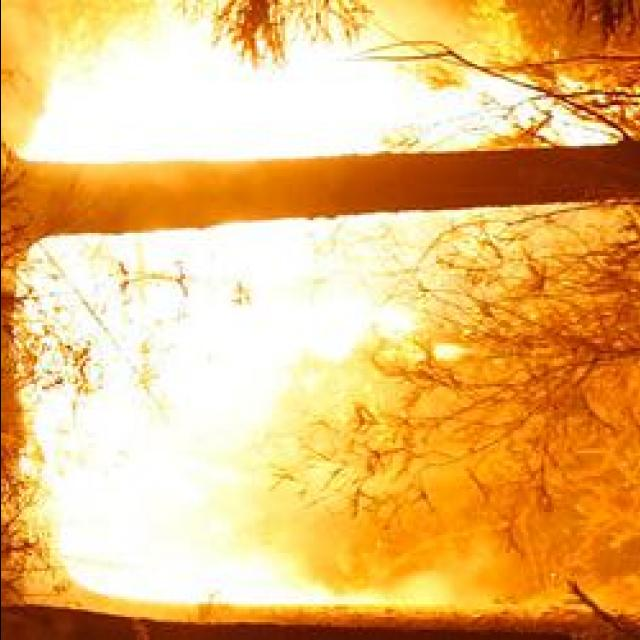fire: (48, 284, 360, 608), (30, 68, 487, 160)
